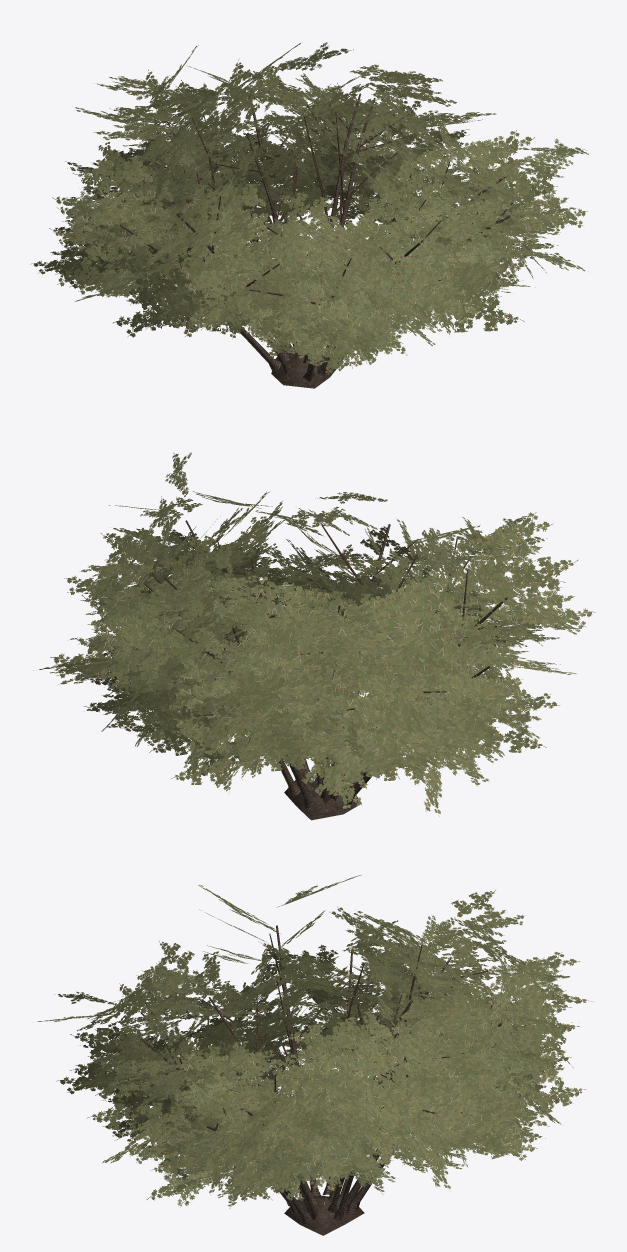
Rendered from Thornbush.glb.
The picture shows the model from 3 angles, top to bottom: view 1: azimuth 30°, elevation 25°; view 2: azimuth 150°, elevation 25°; view 3: azimuth 270°, elevation 25°; orthographic projection. The views are drawn at different scales.
Parts seen in each view (by area): view 1: thornbush_lod1; view 2: thornbush_lod1; view 3: thornbush_lod1.
Boxes of the visible parts, x1,y1,x2,y2 form: thornbush_lod1: (30,42,588,388); thornbush_lod1: (33,452,595,820); thornbush_lod1: (38,875,592,1235).
Size of the model in its own units: 4.13 by 2.21 by 4.13.
Materials: 3 (3 with a texture image).
